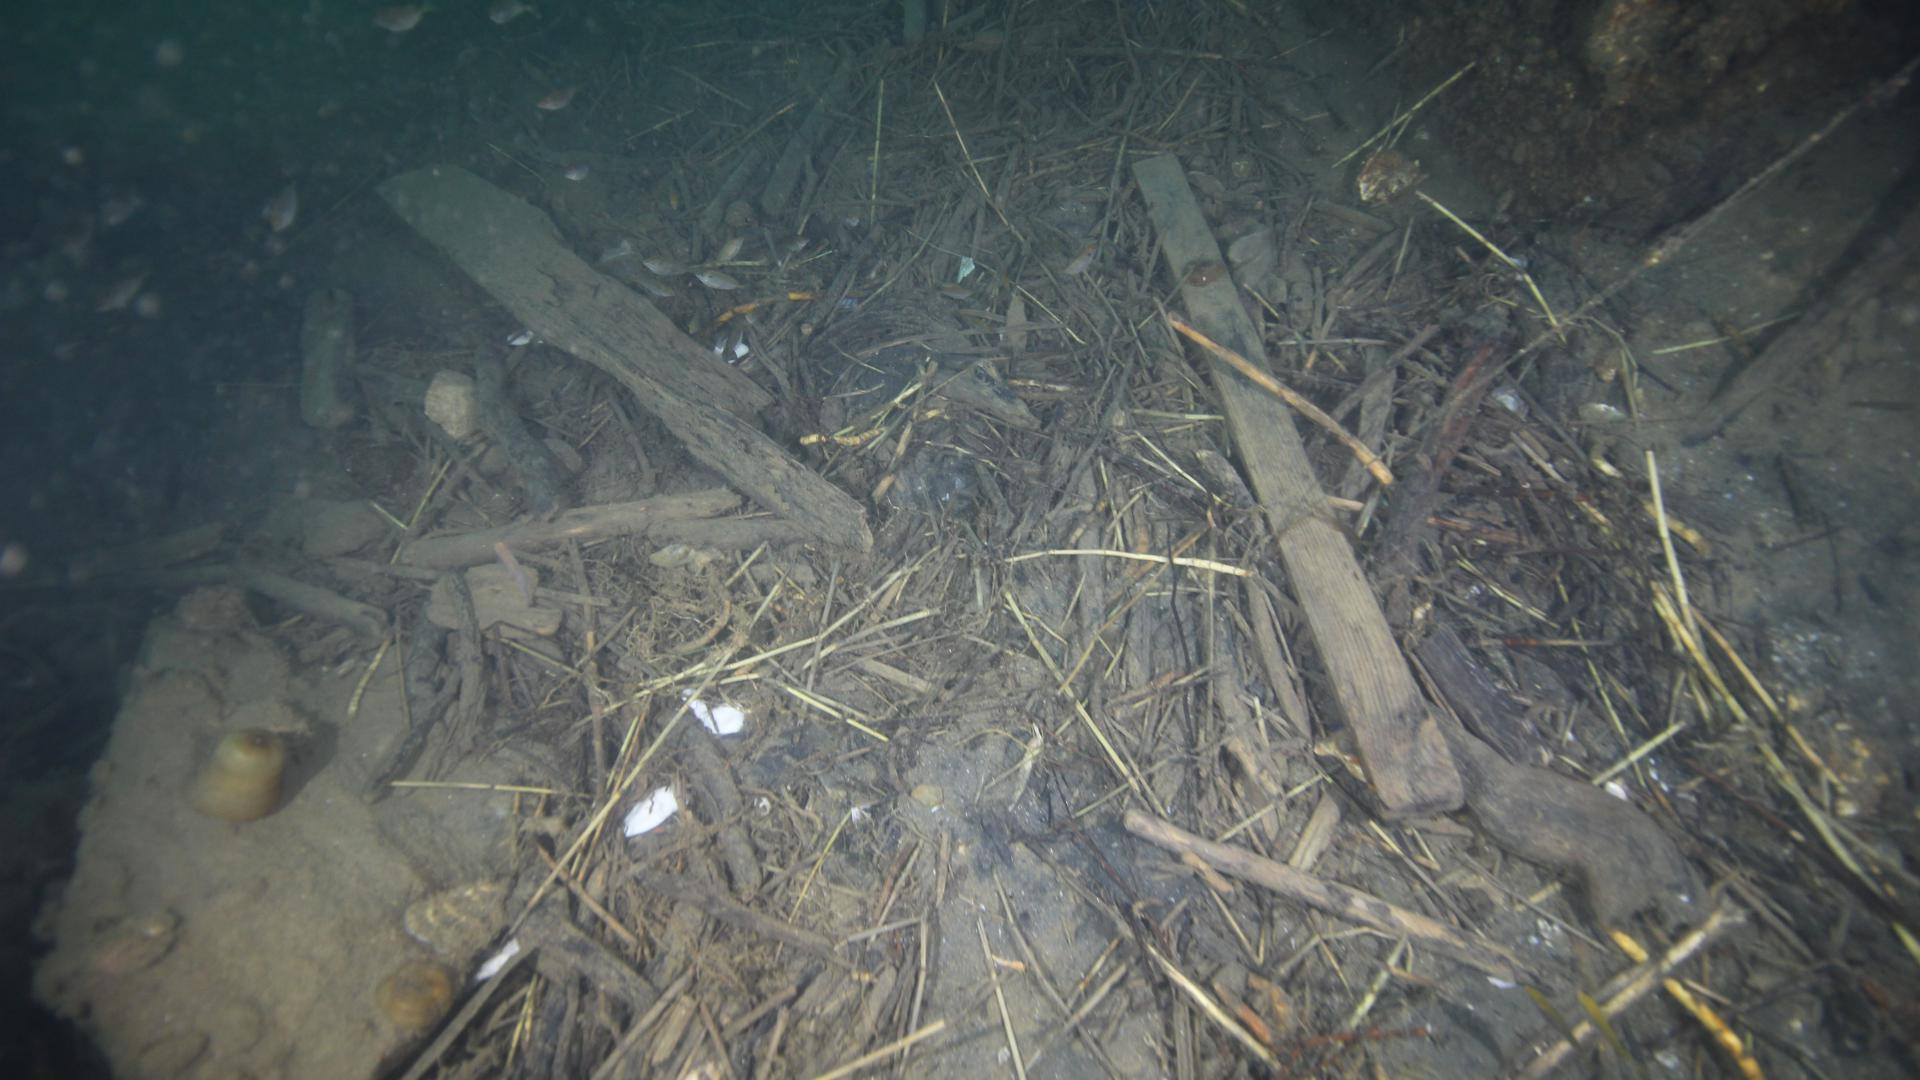wood: (1135, 150, 1464, 818), (375, 162, 869, 543), (410, 487, 738, 568), (301, 290, 351, 425)
